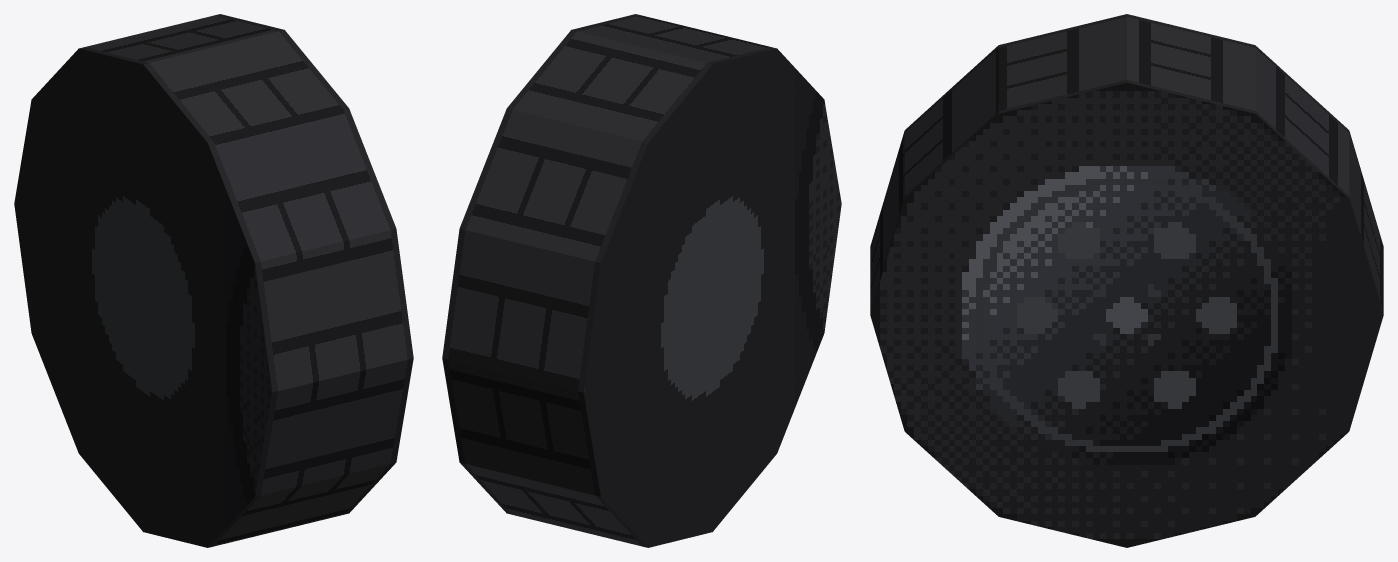
Rendered from wheel_steel.glb.
3 views of the same model, side by side, from view 1: azimuth 30°, elevation 25°; view 2: azimuth 150°, elevation 25°; view 3: azimuth 270°, elevation 25° (orthographic).
Visible parts, largest first — view 1: wheel_steel; view 2: wheel_steel; view 3: wheel_steel.
Part boxes in pixels (x1,y1,x2,y2): wheel_steel: (14,14,413,547); wheel_steel: (442,14,841,547); wheel_steel: (870,14,1383,547).
Size of the model in its own units: 0.185 by 0.5845 by 0.5845.
1 material, 1 textured.
